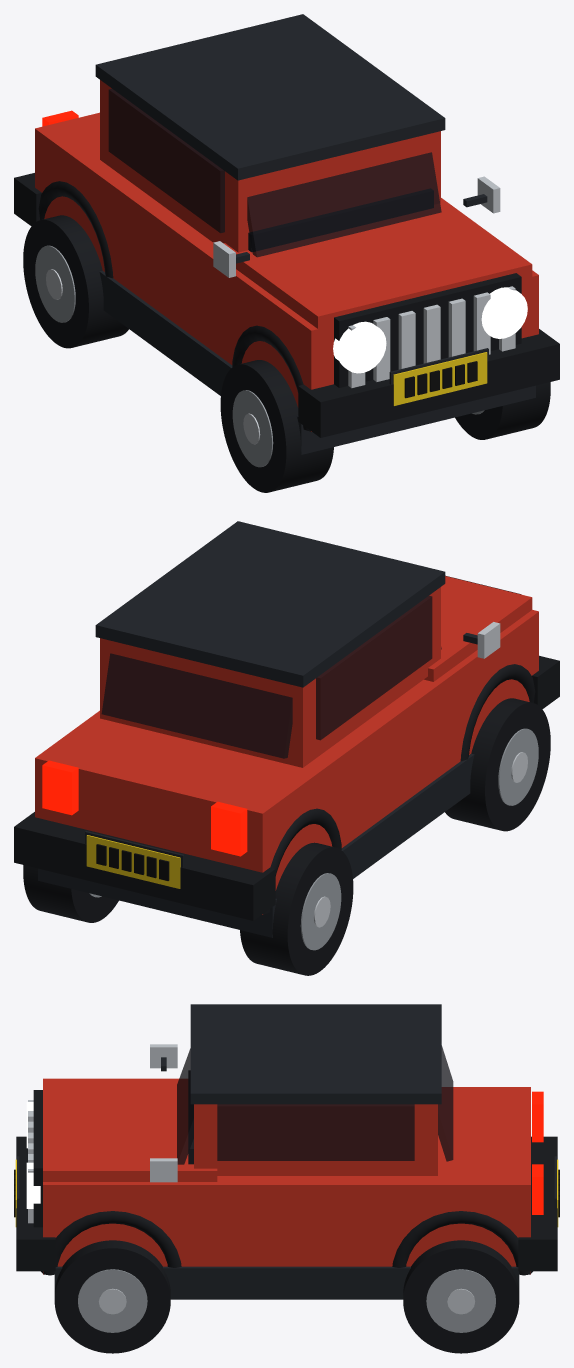
The model's file is vehicle.glb.
3 views of the same model, one above another, from view 1: azimuth 30°, elevation 25°; view 2: azimuth 150°, elevation 25°; view 3: azimuth 270°, elevation 25° (orthographic). The views are drawn at different scales.
Parts seen in each view (by area): view 1: chassis, wheel_FL, wheel_RL, wheel_FR, mirror_right, mirror_left; view 2: chassis, wheel_RL, wheel_FL, wheel_RR, mirror_left; view 3: chassis, wheel_FR, wheel_RR, mirror_left, mirror_right.
Part boxes in pixels (left/top/right/bottom): chassis: left=14, top=14, right=559, bottom=454; wheel_FL: left=220, top=360, right=333, bottom=492; wheel_RL: left=23, top=215, right=128, bottom=348; wheel_FR: left=455, top=382, right=550, bottom=439; mirror_right: left=463, top=176, right=500, bottom=213; mirror_left: left=213, top=241, right=249, bottom=277; chassis: left=14, top=521, right=559, bottom=937; wheel_RL: left=240, top=842, right=353, bottom=975; wheel_FL: left=445, top=698, right=550, bottom=831; wheel_RR: left=23, top=865, right=118, bottom=922; mirror_left: left=463, top=622, right=500, bottom=658; chassis: left=14, top=1004, right=559, bottom=1299; wheel_FR: left=54, top=1240, right=170, bottom=1353; wheel_RR: left=403, top=1240, right=519, bottom=1353; mirror_left: left=150, top=1044, right=177, bottom=1071; mirror_right: left=150, top=1158, right=177, bottom=1182.
Bounding box in the file's own units: 2.38 × 2.35 × 4.7.
